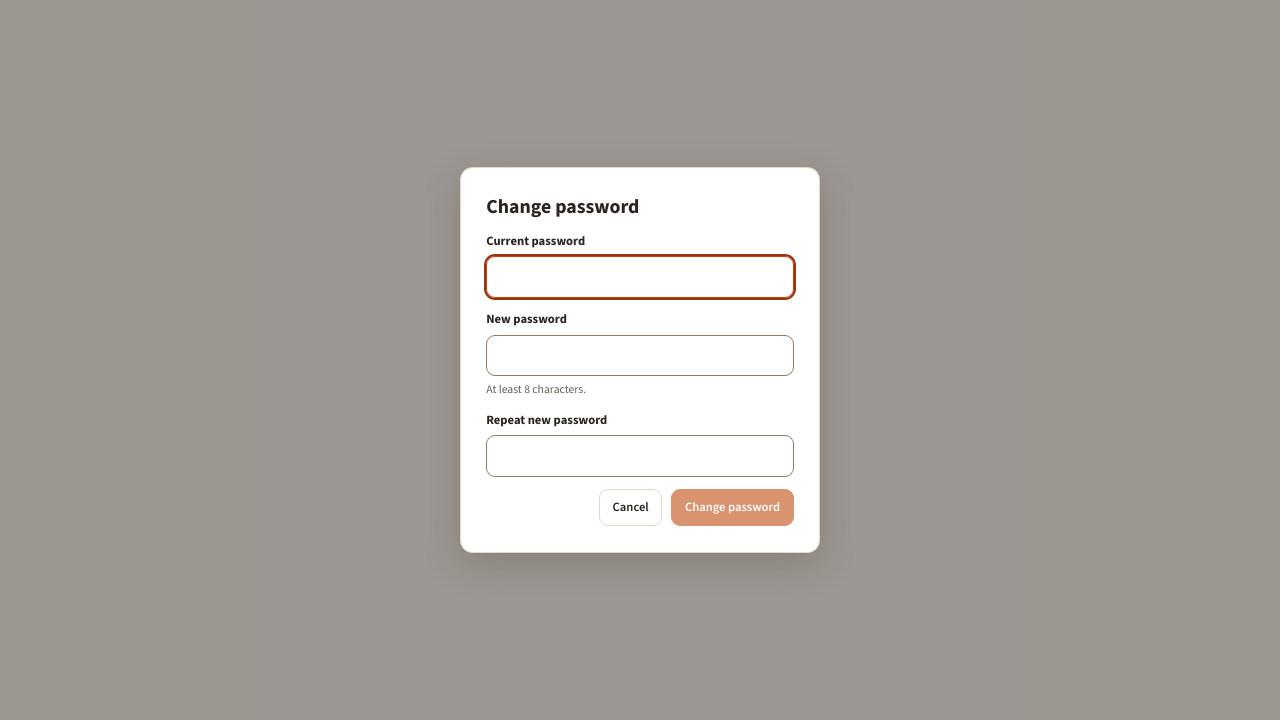
ChangePasswordDialog › shows the server error and closes on Escape
Later steps or results of the test are not shown.
Type "bad" into the password field labelled "Current password".
click(640, 277); type("bad")  # box [486,256,794,298]
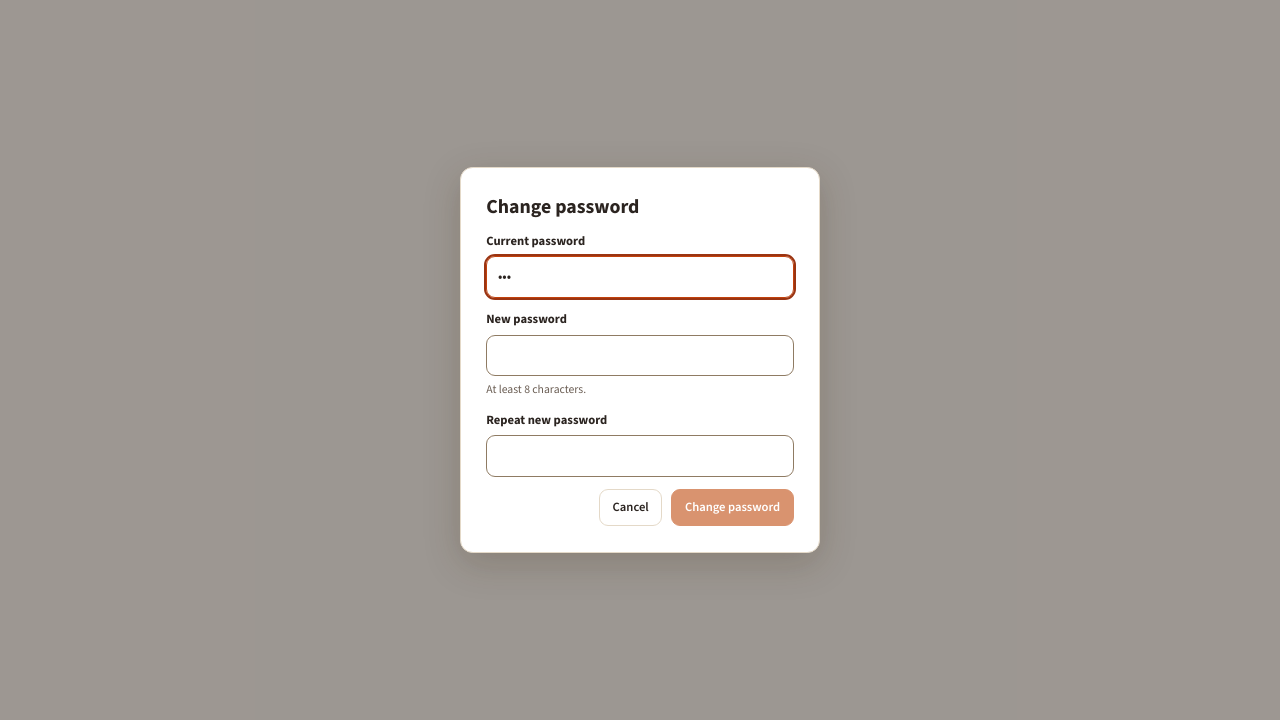
Type "new-password" into the password field labelled "New password".
click(640, 356); type("new-password")  # box [486,335,794,376]
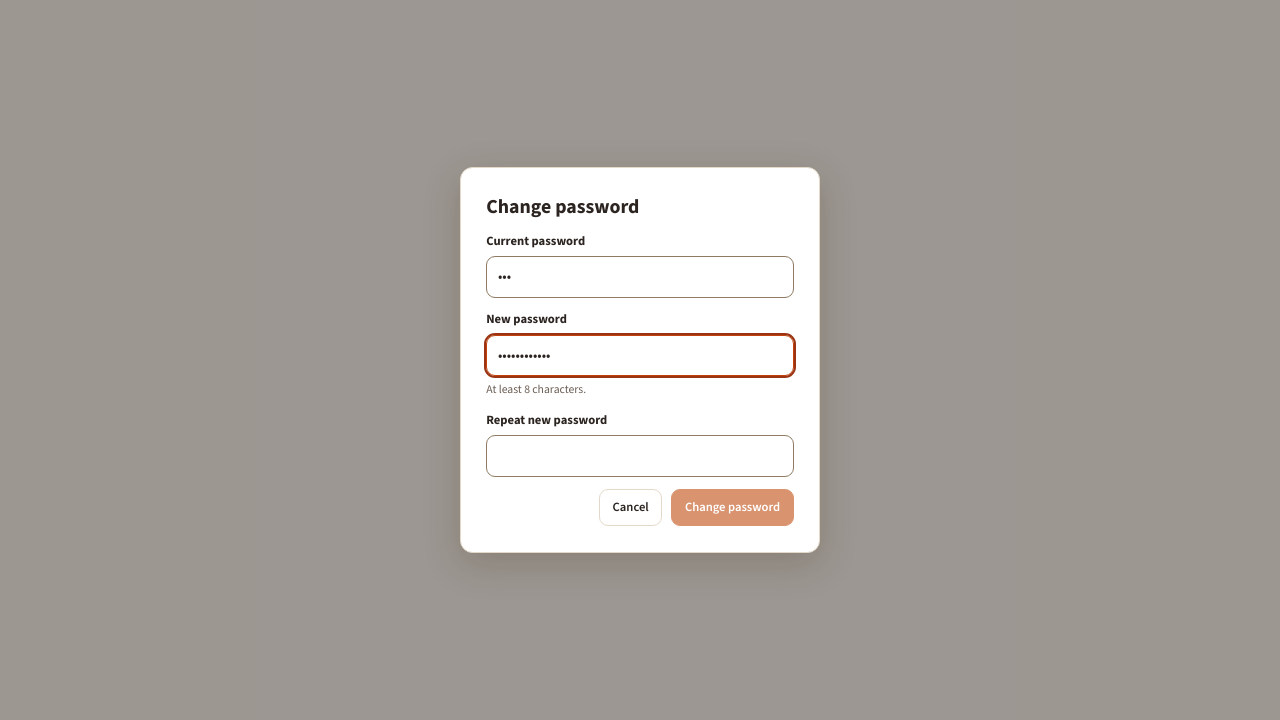
Type "new-password" into the password field labelled "Repeat new password".
click(640, 456); type("new-password")  # box [486,435,794,477]
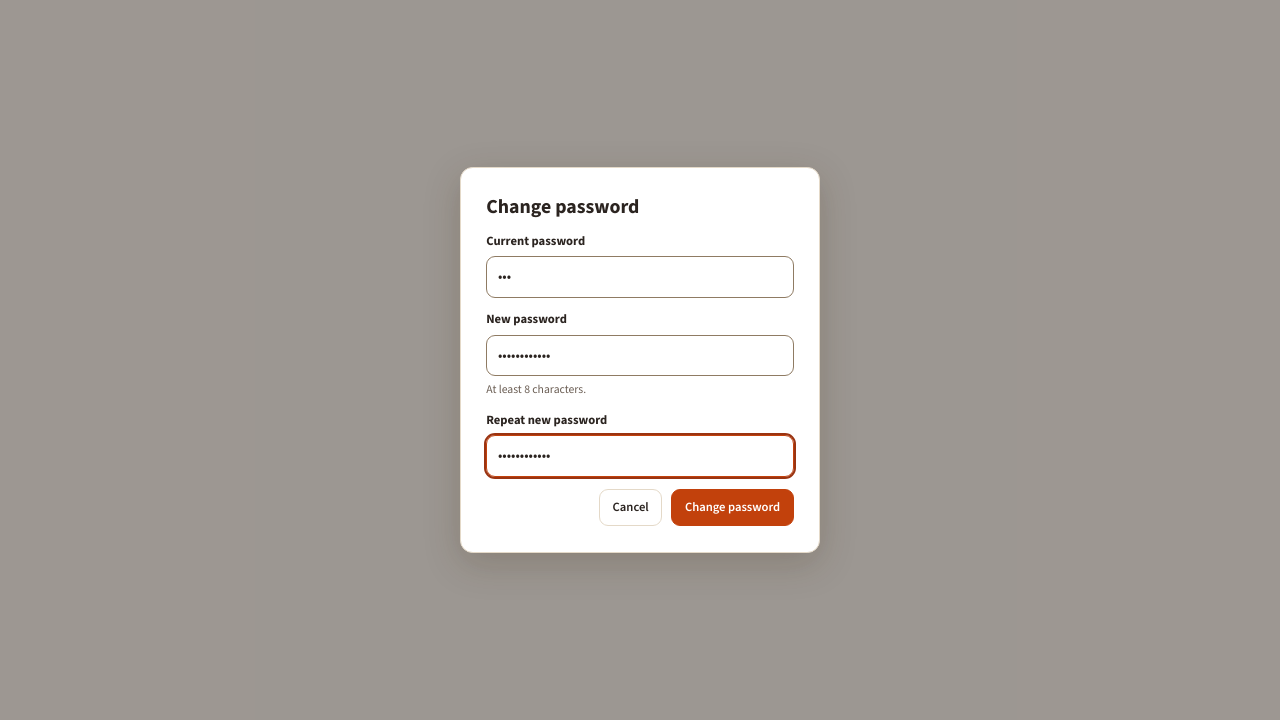
Click the button "Change password".
click(733, 508)  # box [671,489,794,526]
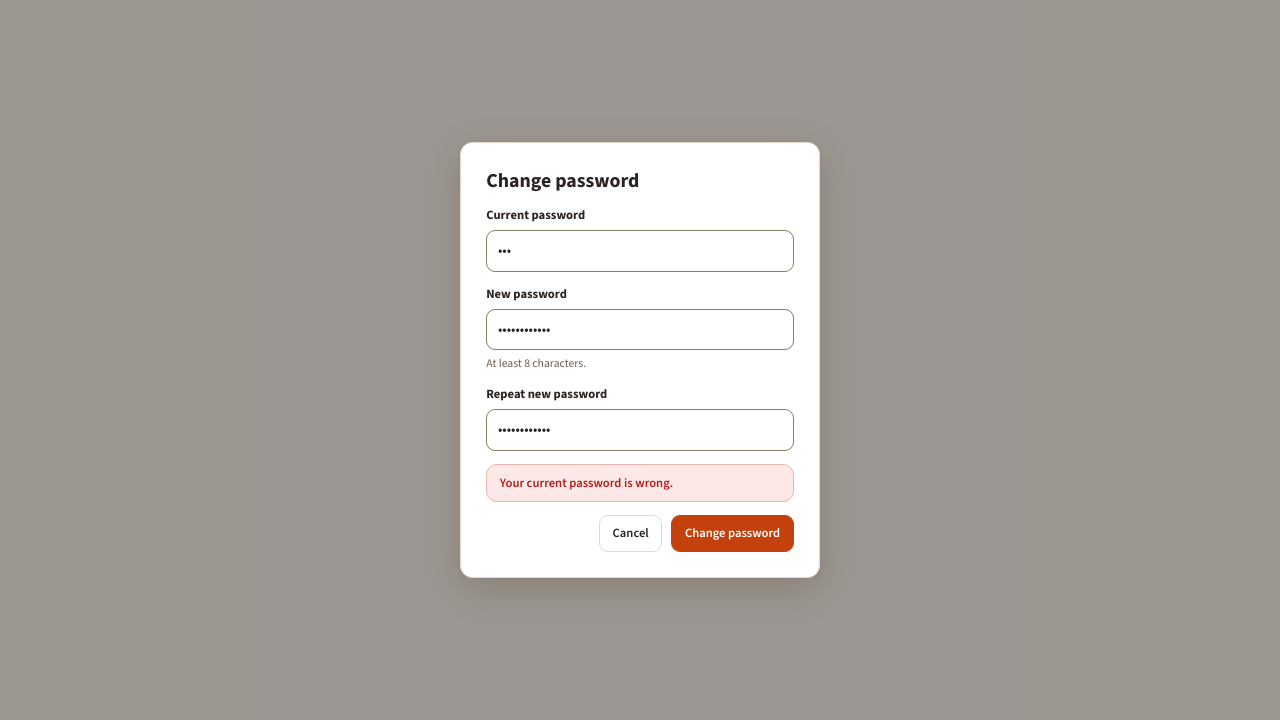
Result: the message shows "current password is wrong" at [500,474,673,491]
